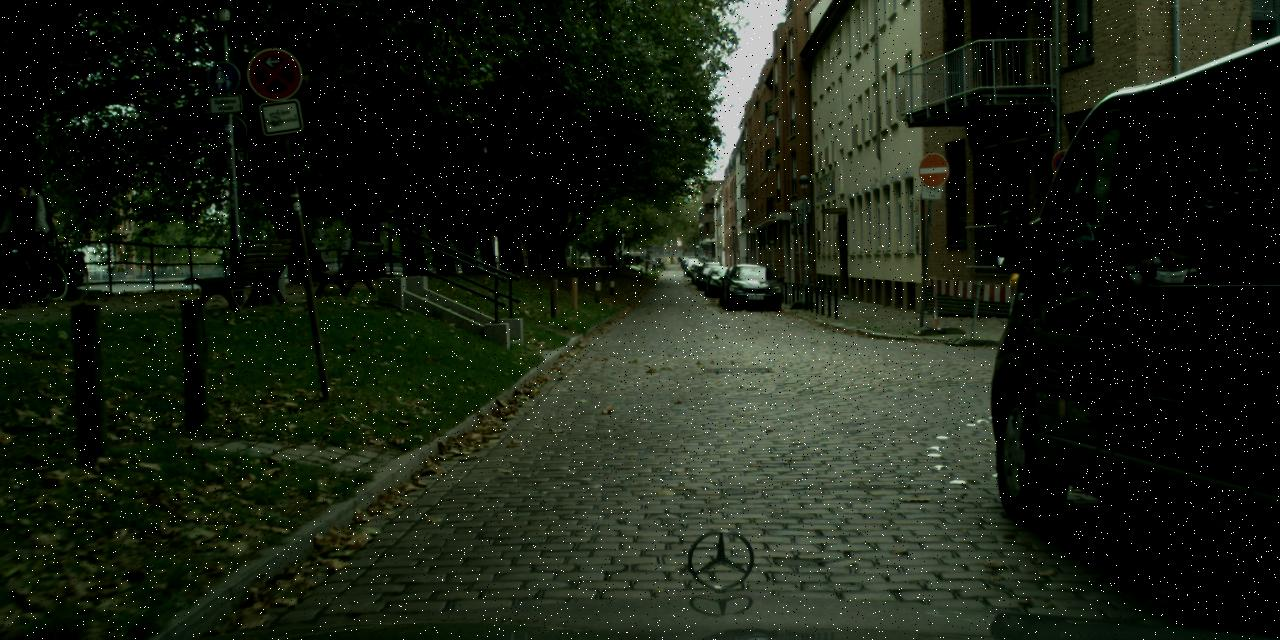ped: (4, 180, 48, 288)
